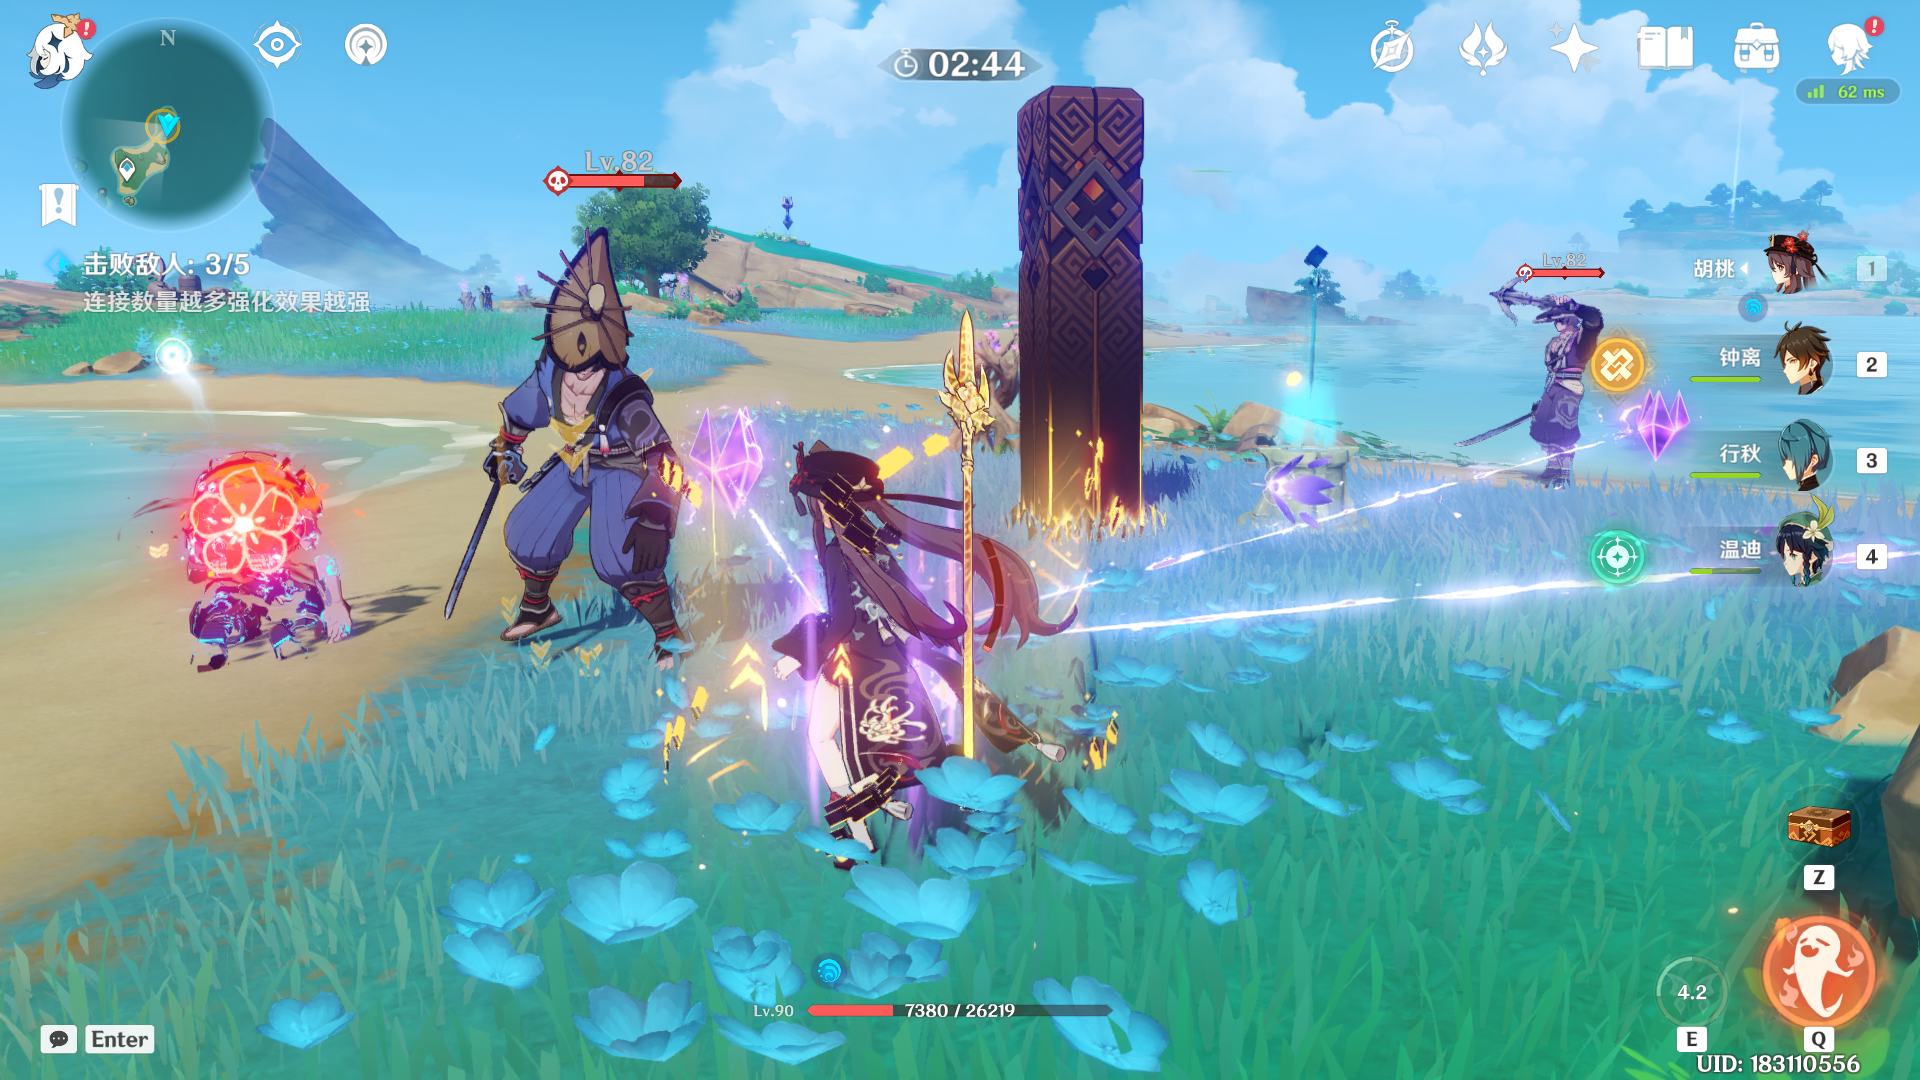character: (729, 430, 1091, 873)
samurai: (429, 245, 719, 732), (1433, 273, 1633, 550)
